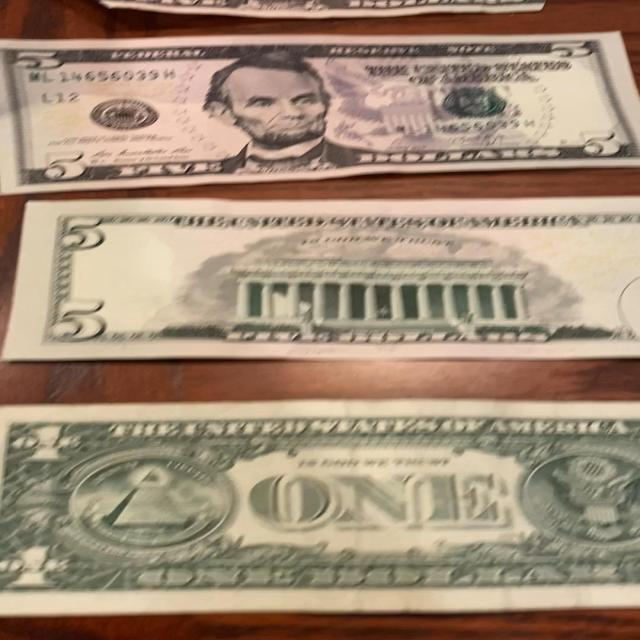1-Back: (0, 394, 640, 616)
5-Back: (0, 191, 640, 371)
5-Front: (0, 28, 640, 200)
